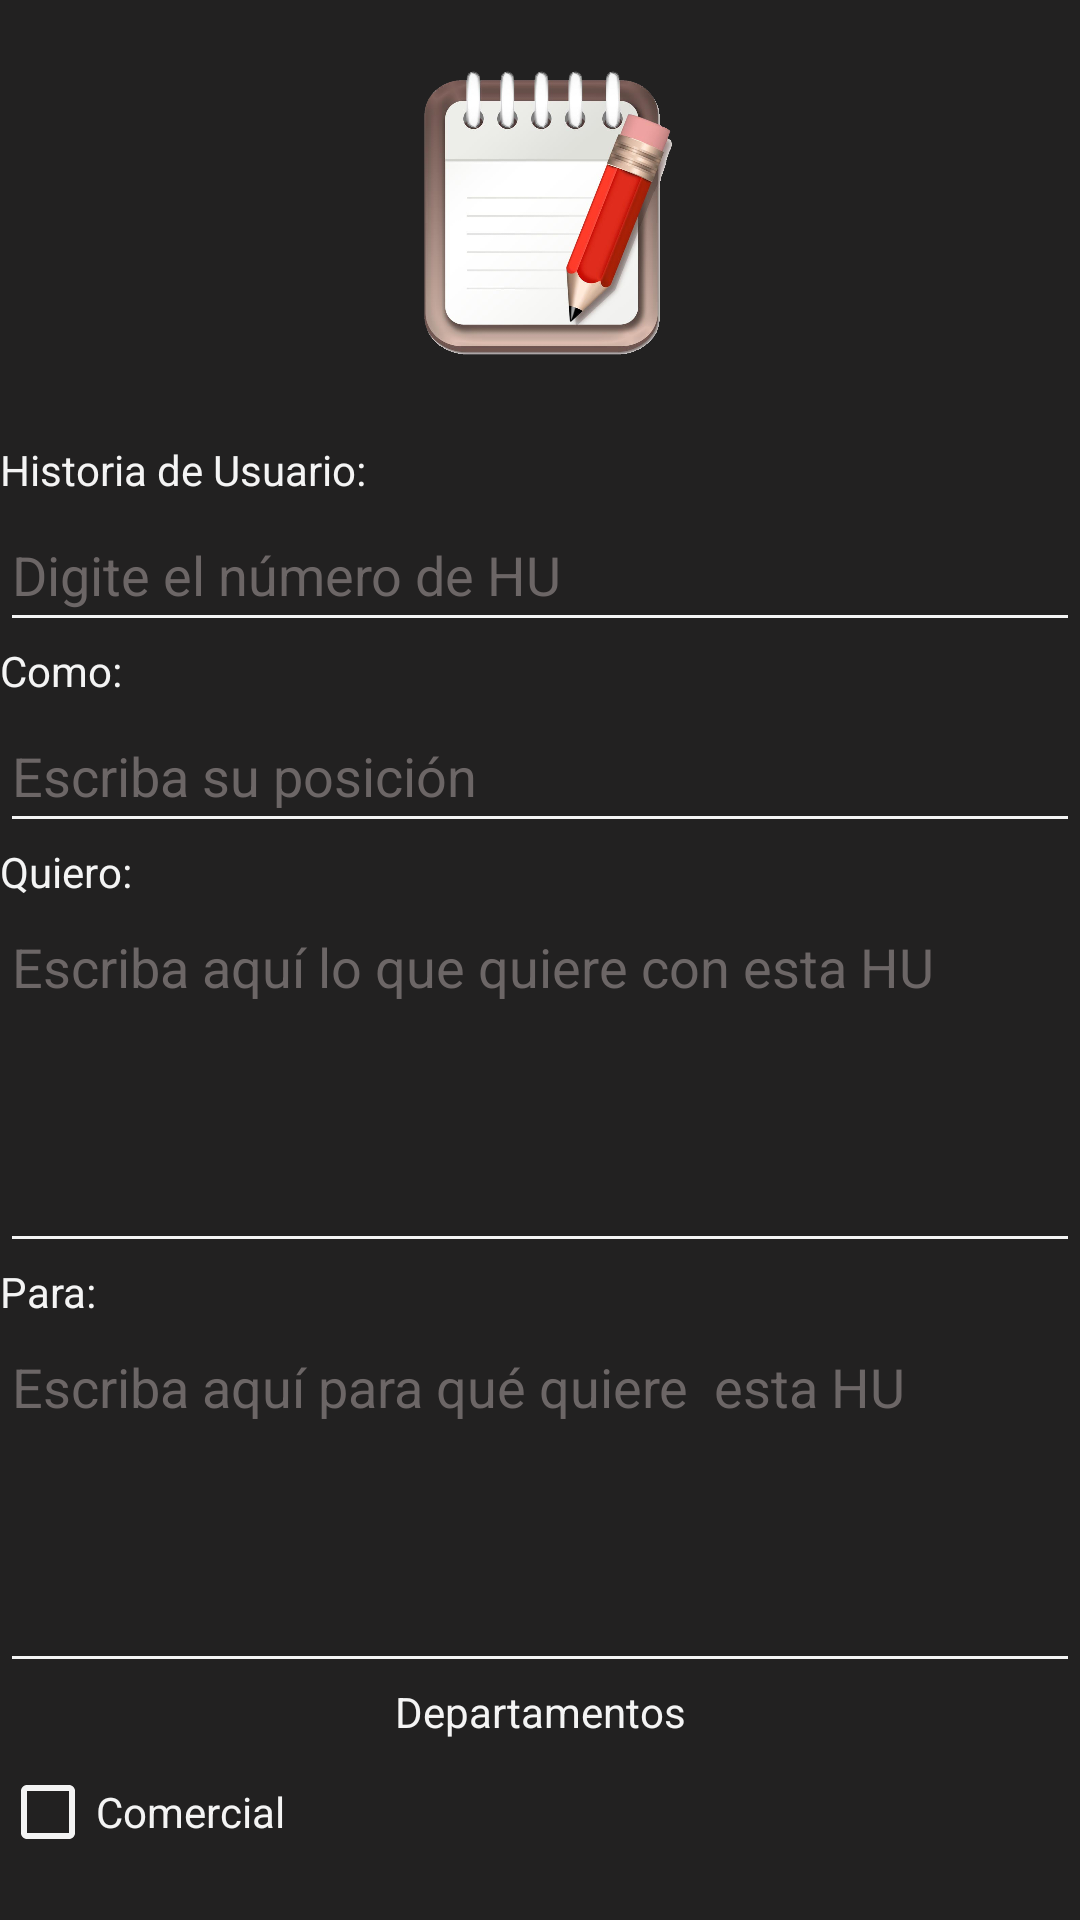

Icon click points for this 1080×1920 phone screenshot, format [x,y]:
imagen de libreta: [548,213]
